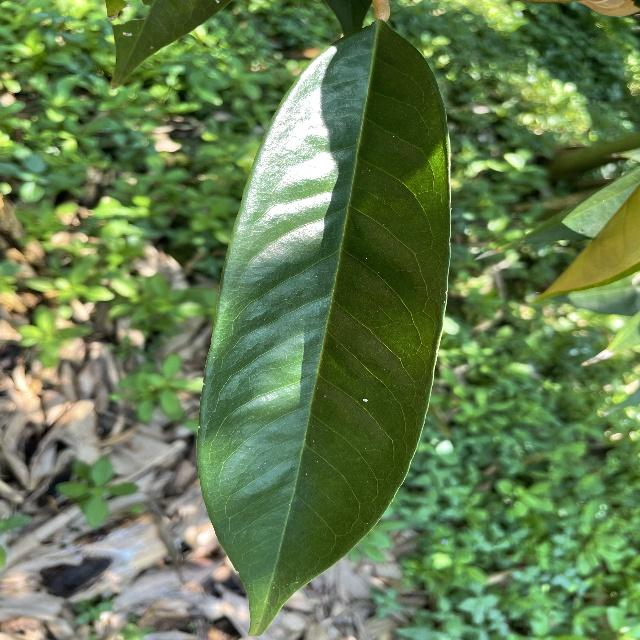No Disease: (191, 19, 465, 640)
